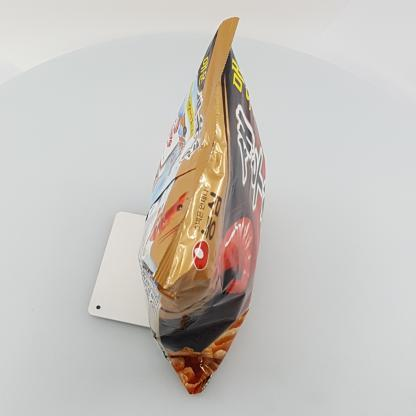Plastic Packaging: (133, 10, 287, 402)
